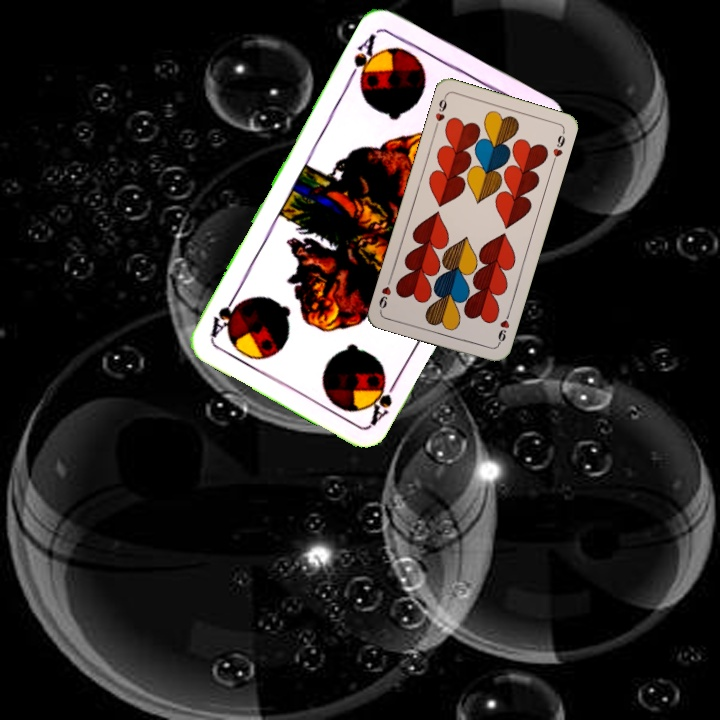H9: (494, 308, 513, 348), (431, 92, 449, 132)
SA: (345, 29, 384, 87), (364, 371, 402, 428)
